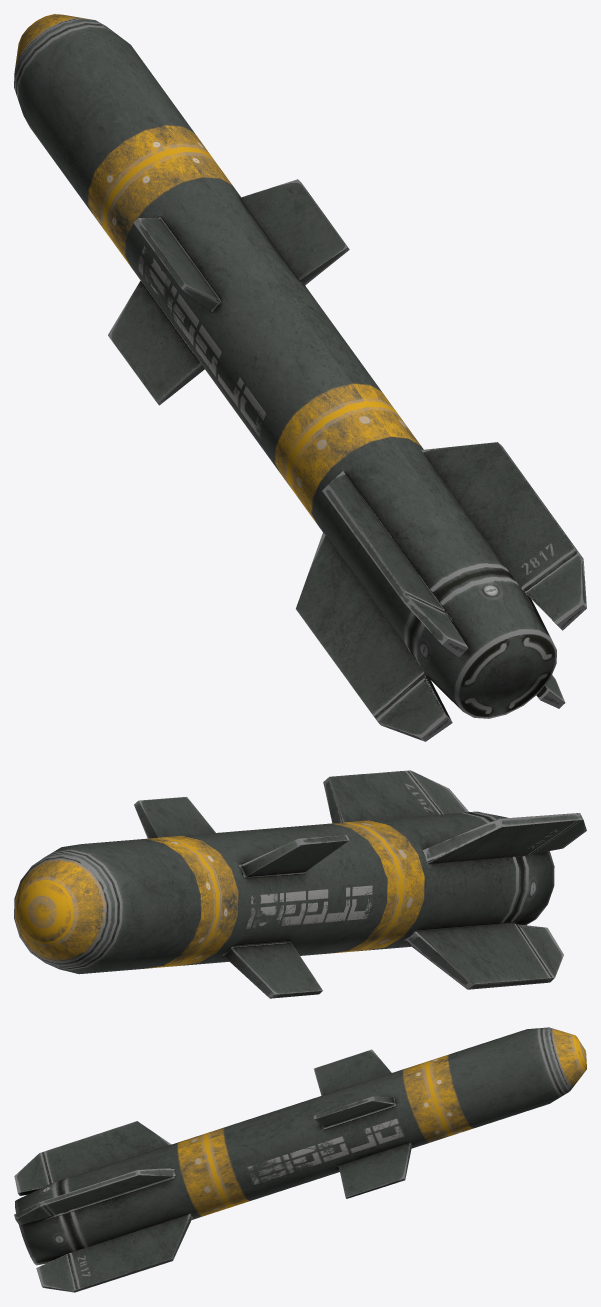
File: bomb.glb
3 renders of one model, top to bottom at view 1: azimuth 30°, elevation 25°; view 2: azimuth 150°, elevation 25°; view 3: azimuth 270°, elevation 25°, orthographic. The views are drawn at different scales.
Visible parts, largest first — view 1: Bomb_lp; view 2: Bomb_lp; view 3: Bomb_lp.
Boxes of the visible parts, bbox=[...] form: Bomb_lp: bbox=[14, 14, 586, 741]; Bomb_lp: bbox=[14, 770, 586, 998]; Bomb_lp: bbox=[14, 1027, 586, 1292].
Size of the model in its own units: 0.4182 by 0.8799 by 1.92.
Materials: 1 (1 with a texture image).
